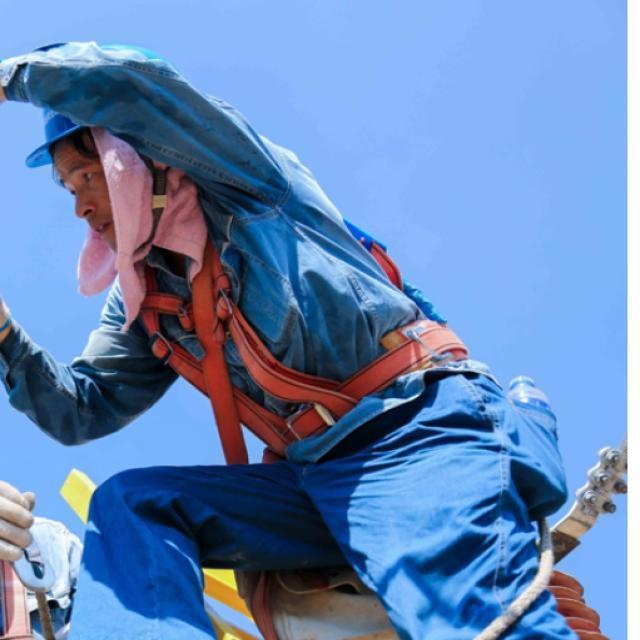Arnes_seguridad: (124, 193, 473, 459)
